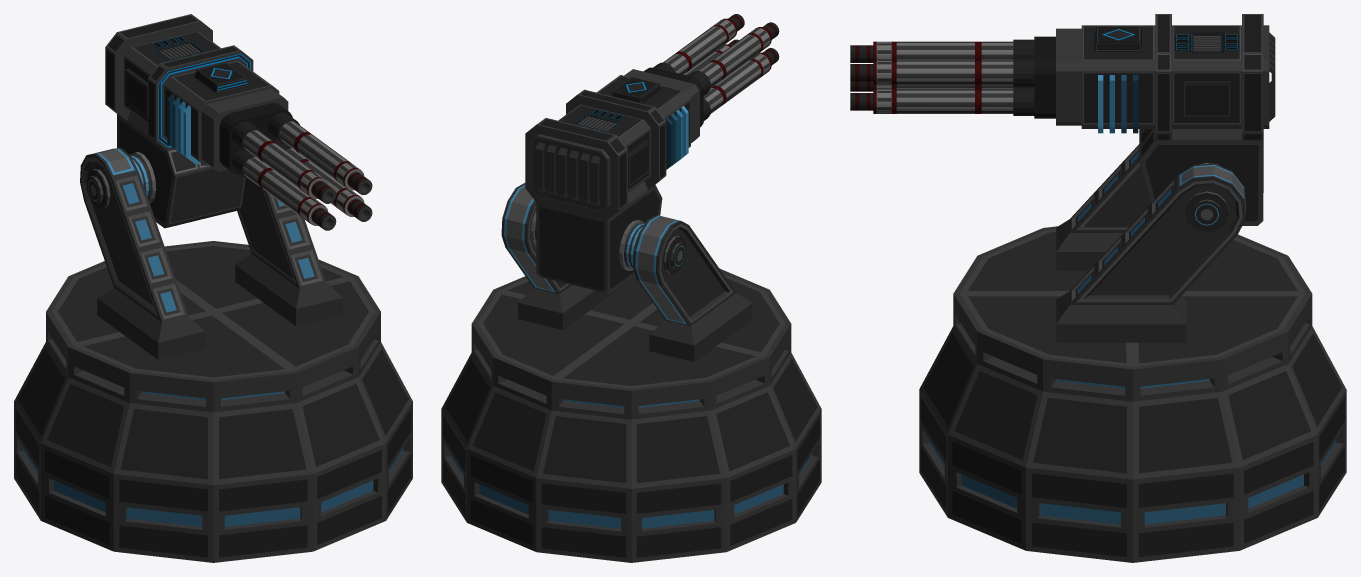
The model's file is GGT.FBX.
The picture shows the model from 3 angles, left to right: view 1: azimuth 30°, elevation 25°; view 2: azimuth 150°, elevation 25°; view 3: azimuth 270°, elevation 25°; orthographic projection. The views are drawn at different scales.
Parts seen in each view (by area): view 1: PTGG, GGT, NTGG003; view 2: PTGG, GGT, NTGG003; view 3: PTGG, GGT, NTGG003.
Part boxes in pixels (<box>): PTGG: <box>14,241,412,562</box>; GGT: <box>105,14,372,230</box>; NTGG003: <box>80,148,342,359</box>; PTGG: <box>441,268,821,562</box>; GGT: <box>525,14,779,293</box>; NTGG003: <box>501,183,752,361</box>; PTGG: <box>919,226,1346,562</box>; GGT: <box>850,14,1275,225</box>; NTGG003: <box>1056,144,1245,342</box>.
Size of the model in its own units: 782 by 888 by 908.
